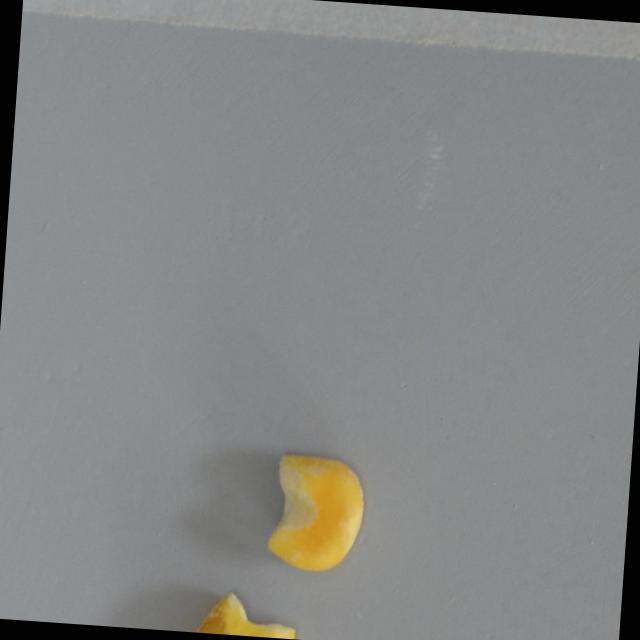no_canjicado: (263, 452, 364, 575)
pelicula: (178, 588, 297, 639)
